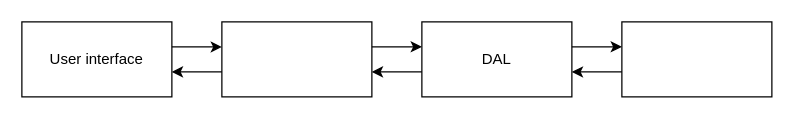
This 794x119 diagram has some shape labels left out. Here are the shapes that lost their labels. From the top down, the box of each, then its label:
(221, 21, 372, 97): BL
(621, 21, 772, 97): Server
